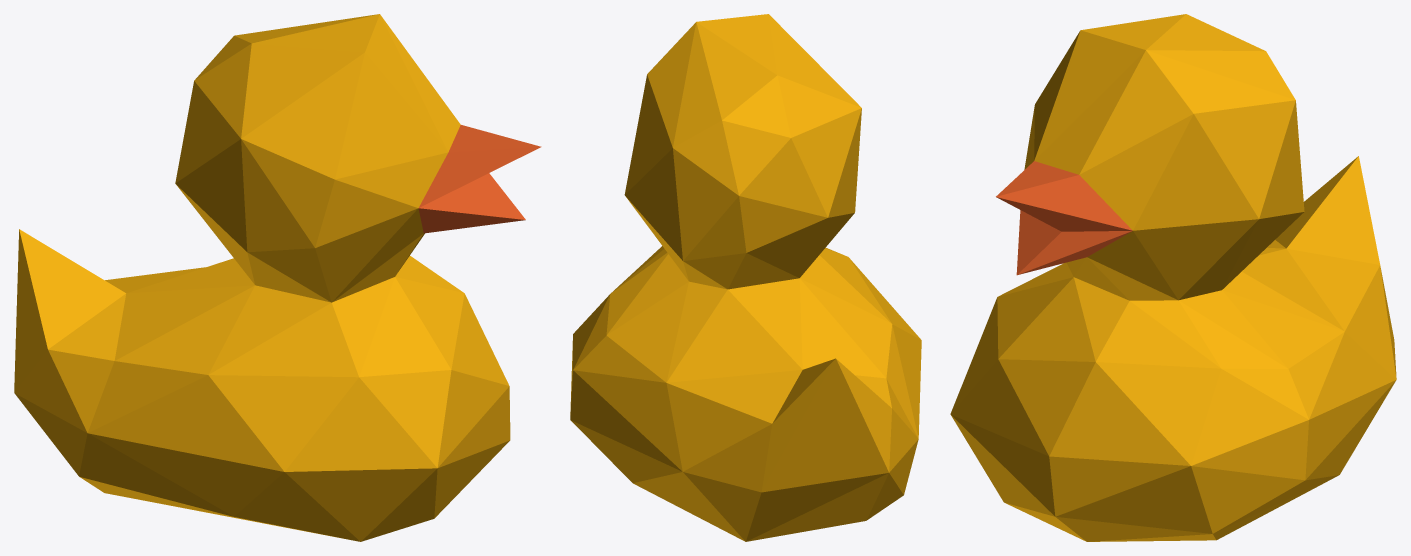
File: lowpoly_yellow_duck.gltf
3 views of the same model, side by side, from view 1: azimuth 30°, elevation 25°; view 2: azimuth 150°, elevation 25°; view 3: azimuth 270°, elevation 25° (orthographic). The views are drawn at different scales.
Parts seen in each view (by area): view 1: ducky_yellow; view 2: ducky_yellow; view 3: ducky_yellow.
Boxes of the visible parts, box(x1,y1,x2,y2) form: ducky_yellow: box(14, 14, 541, 541); ducky_yellow: box(570, 14, 921, 541); ducky_yellow: box(950, 14, 1396, 541).
Size of the model in its own units: 2.42 by 2.64 by 2.29.
Materials: 1 (1 with a texture image).
